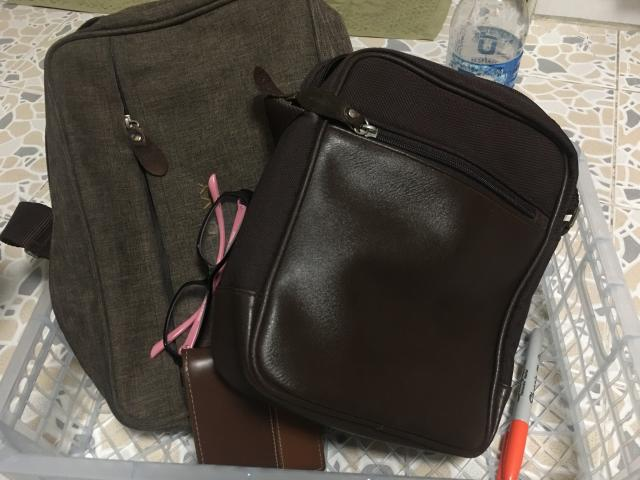Glasses: (151, 175, 251, 365)
Pen: (498, 328, 544, 480)
Wallet: (182, 333, 325, 471)
bottle: (446, 0, 529, 88)
